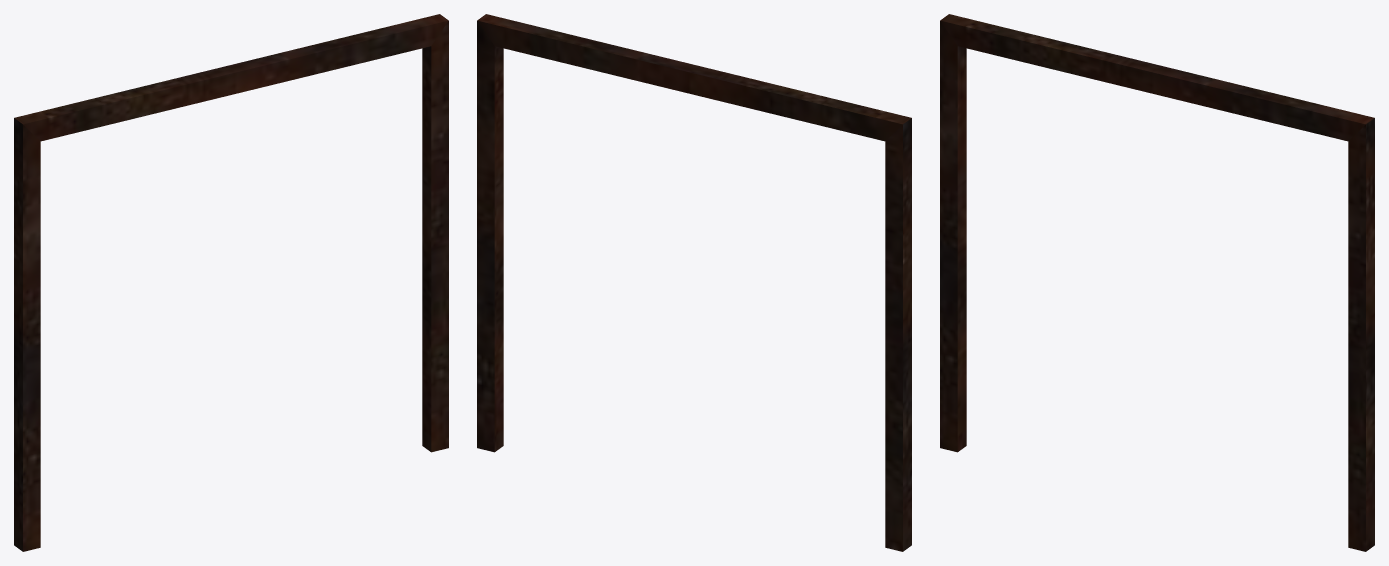
The model's file is metal_wall_frame_textured.glb.
3 views of the same model, side by side, from view 1: azimuth 30°, elevation 25°; view 2: azimuth 150°, elevation 25°; view 3: azimuth 330°, elevation 25° (orthographic).
Parts seen in each view (by area): view 1: Cube; view 2: Cube; view 3: Cube.
Boxes of the visible parts, left/top/right/bottom form: Cube: left=14, top=14, right=448, bottom=551; Cube: left=477, top=14, right=911, bottom=551; Cube: left=940, top=14, right=1374, bottom=551.
Bounding box in the file's own units: 2.09 × 2 × 0.0761.
1 material, 1 textured.
